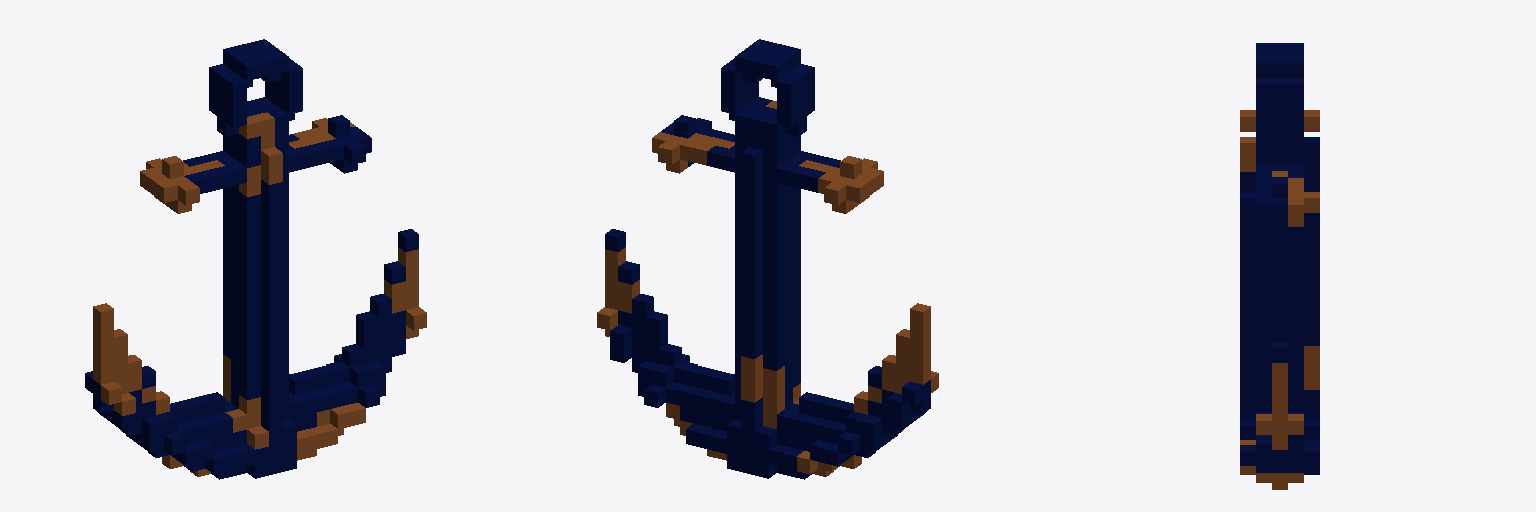
3 renders of one model, left to right at view 1: azimuth 30°, elevation 25°; view 2: azimuth 150°, elevation 25°; view 3: azimuth 270°, elevation 25°, orthographic.
Visible parts, largest first — view 1: object 1; view 2: object 1; view 3: object 1.
Boxes of the visible parts, box(x1,y1,x2,y2) form: object 1: box(85, 39, 426, 479); object 1: box(597, 39, 938, 479); object 1: box(1240, 43, 1319, 489).
Size of the model in its own units: 2.3 by 2.8 by 0.5.
1 materials, 1 textured.